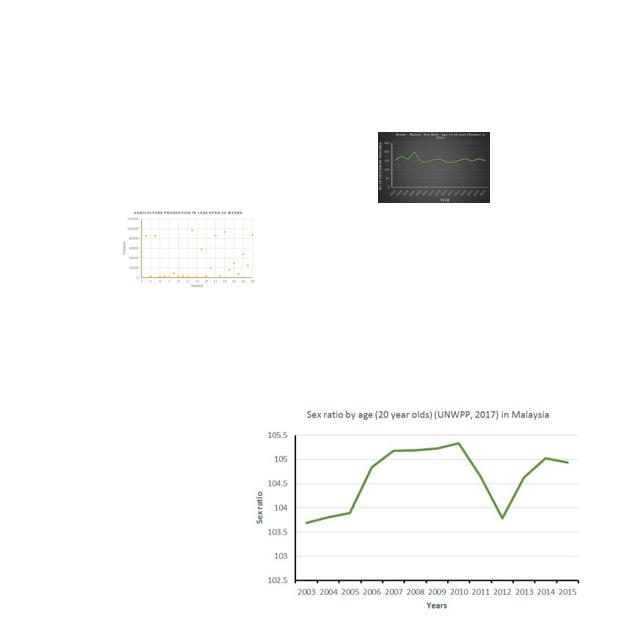Graph: (247, 405, 585, 613), (121, 209, 257, 289), (378, 132, 490, 203)
